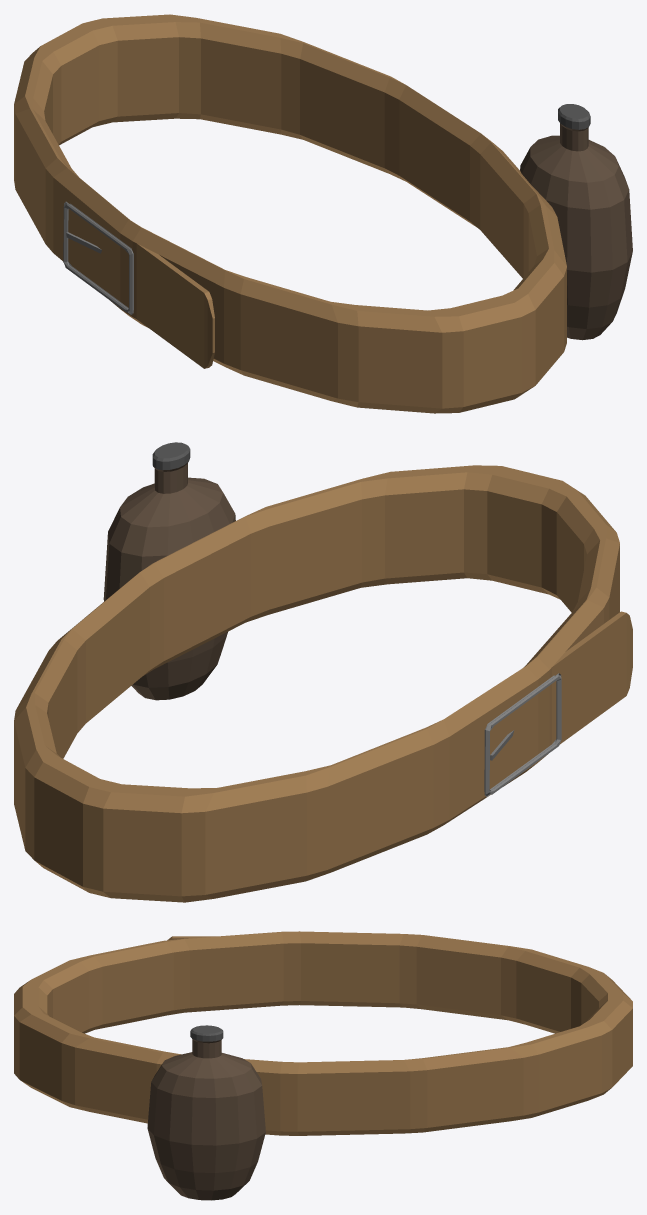
Rendered from Belt.fbx.
3 views of the same model, one above another, from view 1: azimuth 30°, elevation 25°; view 2: azimuth 150°, elevation 25°; view 3: azimuth 270°, elevation 25° (orthographic). The views are drawn at different scales.
Visible parts, largest first — view 1: Circle.001; view 2: Circle.001; view 3: Circle.001.
Boxes of the visible parts, box(x1,y1,x2,y2) form: Circle.001: box(14, 14, 632, 413); Circle.001: box(14, 442, 632, 902); Circle.001: box(14, 931, 632, 1200).
Size of the model in its own units: 238 by 109 by 375.
